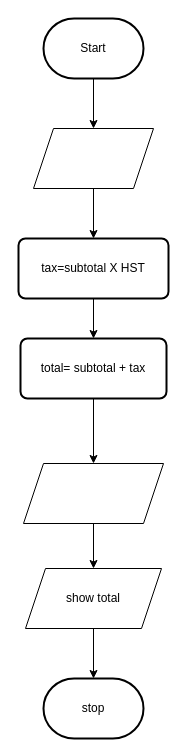
Some shapes in this 186 by 756 pixel diagram are drawn without their labels. The shapes that lost their labels are listed below. From the top down, each one's box as (x1, y1, x2, y2) in pixels, then its label:
(32, 128, 154, 188): Get subtotal
(22, 462, 164, 524): show tax
